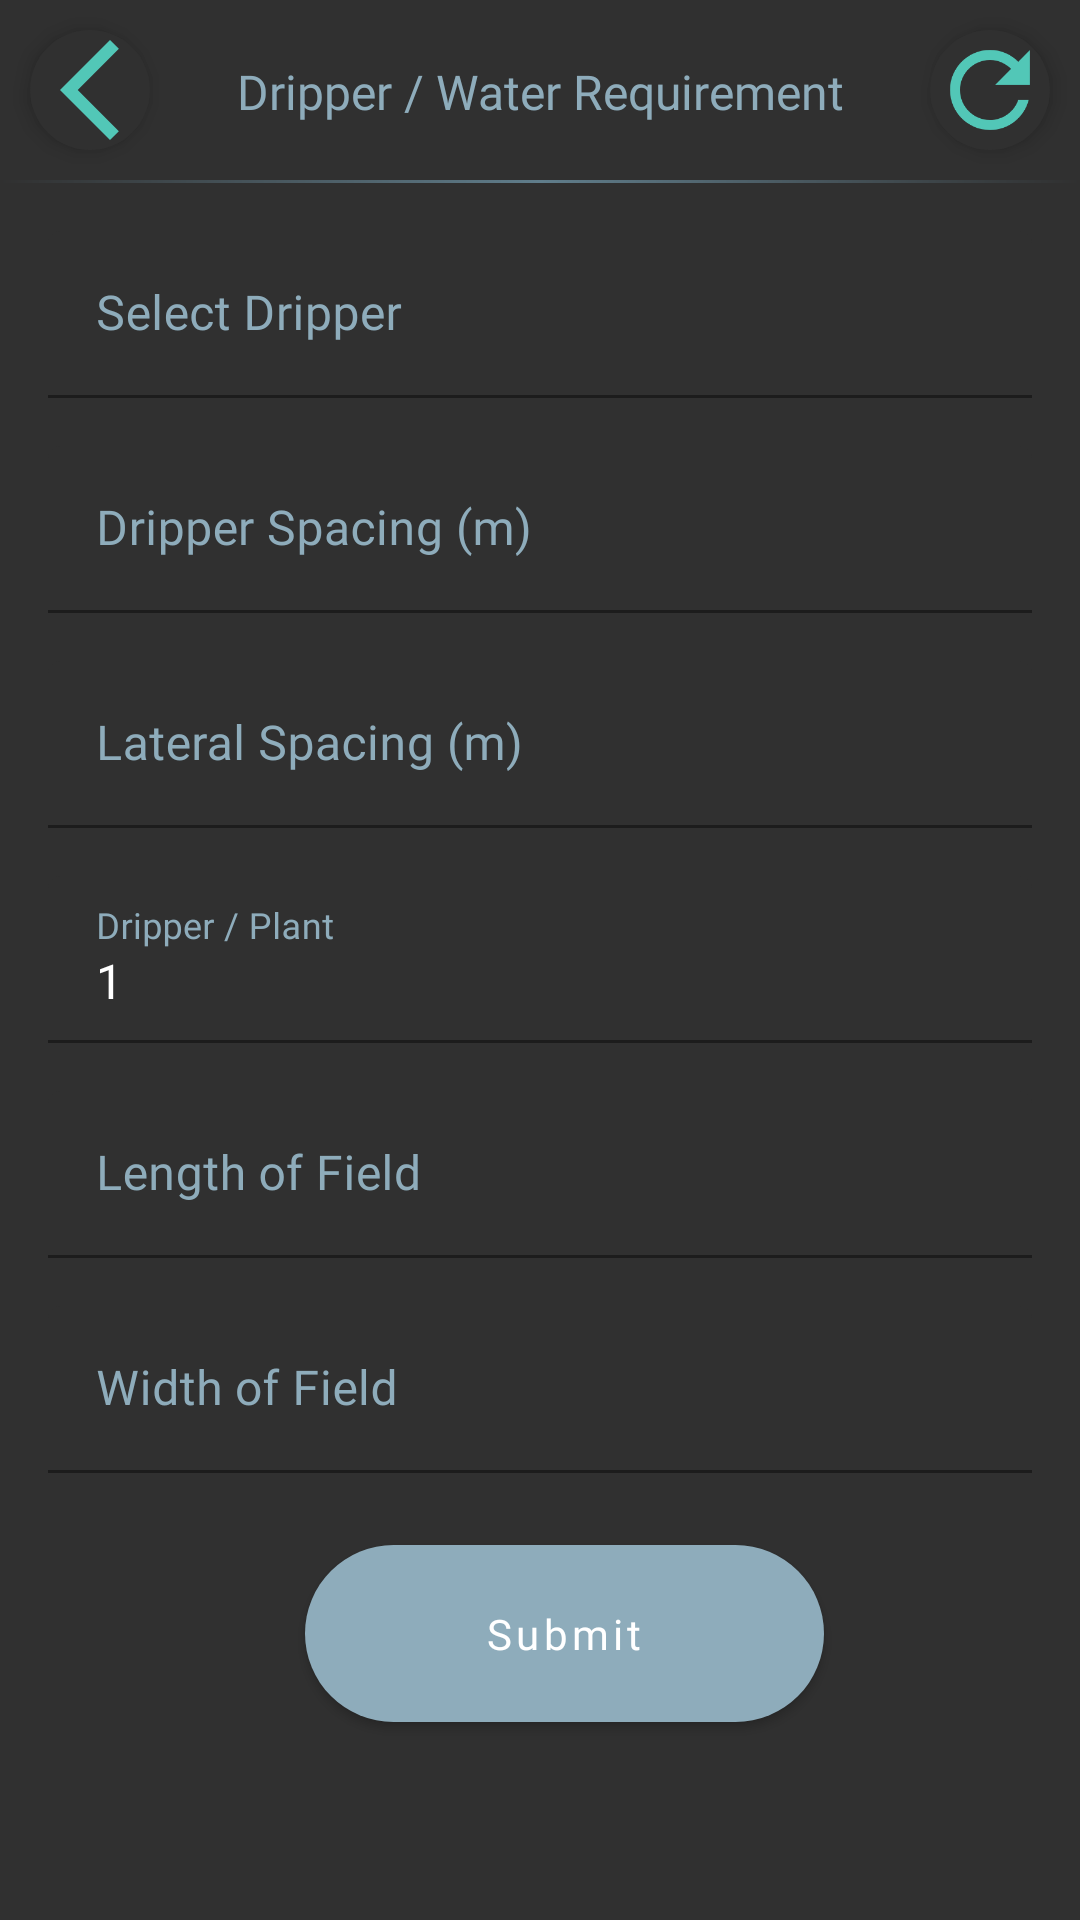

Icon bounding boxes for this 1080px x 1920px phone screenshot, format bbox=[x1, y1, x2, y2]:
Back: bbox=[60, 40, 119, 140]
Reset: bbox=[950, 50, 1030, 130]
